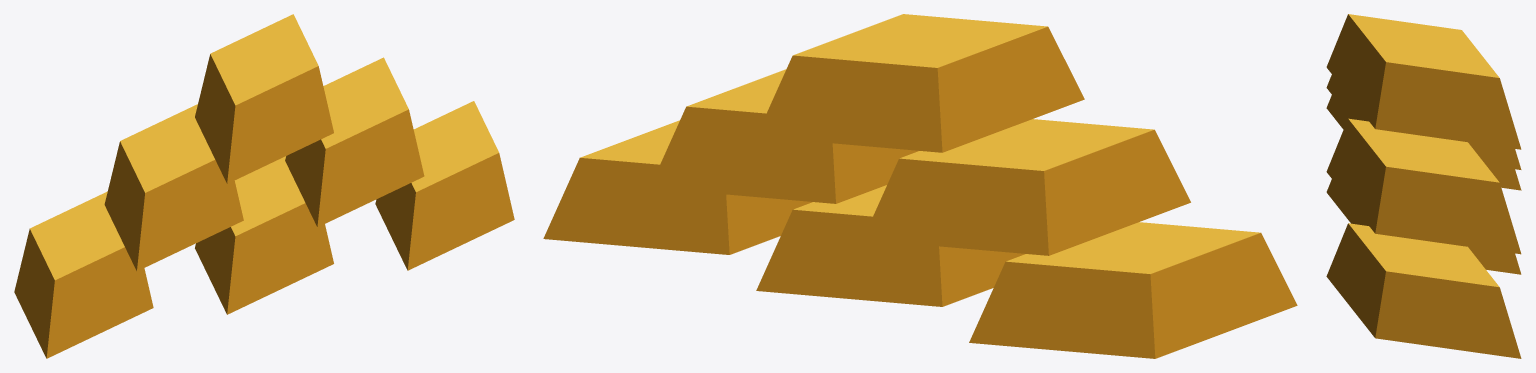
The model's file is GoldBarStack.fbx.
3 renders of one model, left to right at view 1: azimuth 30°, elevation 25°; view 2: azimuth 150°, elevation 25°; view 3: azimuth 270°, elevation 25°, orthographic. The views are drawn at different scales.
Parts seen in each view (by area): view 1: GoldBarStack; view 2: GoldBarStack; view 3: GoldBarStack.
Part boxes in pixels (x1,y1,x2,y2): GoldBarStack: (14,14,514,358); GoldBarStack: (543,14,1297,358); GoldBarStack: (1326,14,1521,358).
Size of the model in its own units: 3.87 by 1.35 by 1.27.
Materials: 1 (1 with a texture image).
